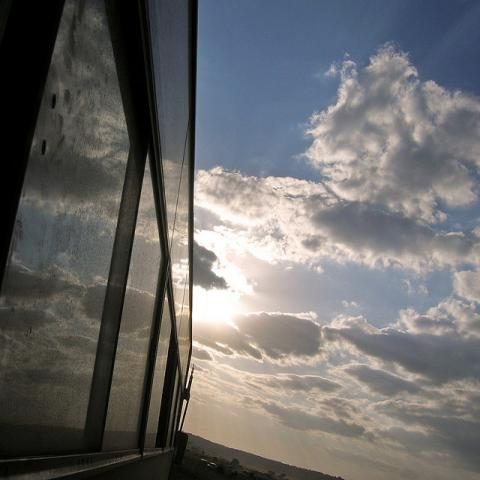bus: (0, 4, 200, 474)
